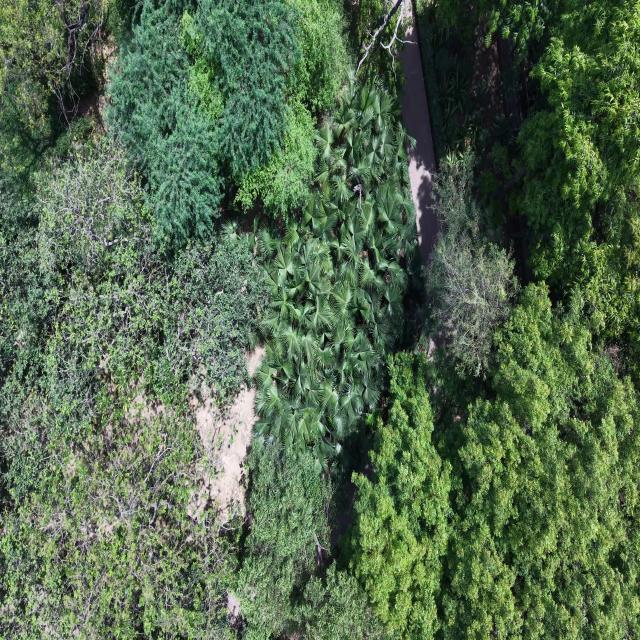DRY_AREA: (400, 0, 437, 264), (194, 387, 256, 522)
VEGETATION_TREE: (0, 0, 639, 639), (344, 3, 639, 638), (0, 3, 267, 637), (0, 140, 265, 637), (346, 285, 639, 639), (419, 0, 639, 375), (434, 285, 639, 638), (256, 74, 419, 471), (107, 0, 350, 247), (36, 144, 265, 398), (0, 414, 238, 637), (108, 0, 299, 244), (520, 2, 639, 339), (346, 353, 451, 638), (232, 443, 383, 639), (106, 2, 223, 243), (235, 0, 352, 221), (180, 0, 300, 178), (426, 152, 518, 375), (0, 0, 105, 187), (234, 444, 331, 638), (0, 0, 105, 144), (416, 0, 493, 163), (427, 237, 516, 374), (235, 101, 316, 221), (438, 0, 566, 56), (292, 0, 351, 115), (352, 0, 410, 95), (415, 0, 446, 163), (103, 0, 141, 42)
